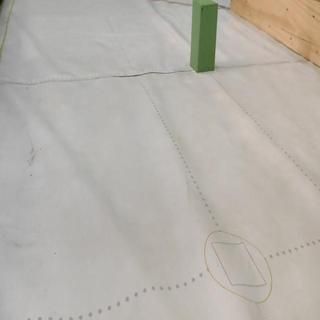greenbox: (191, 0, 218, 72)
